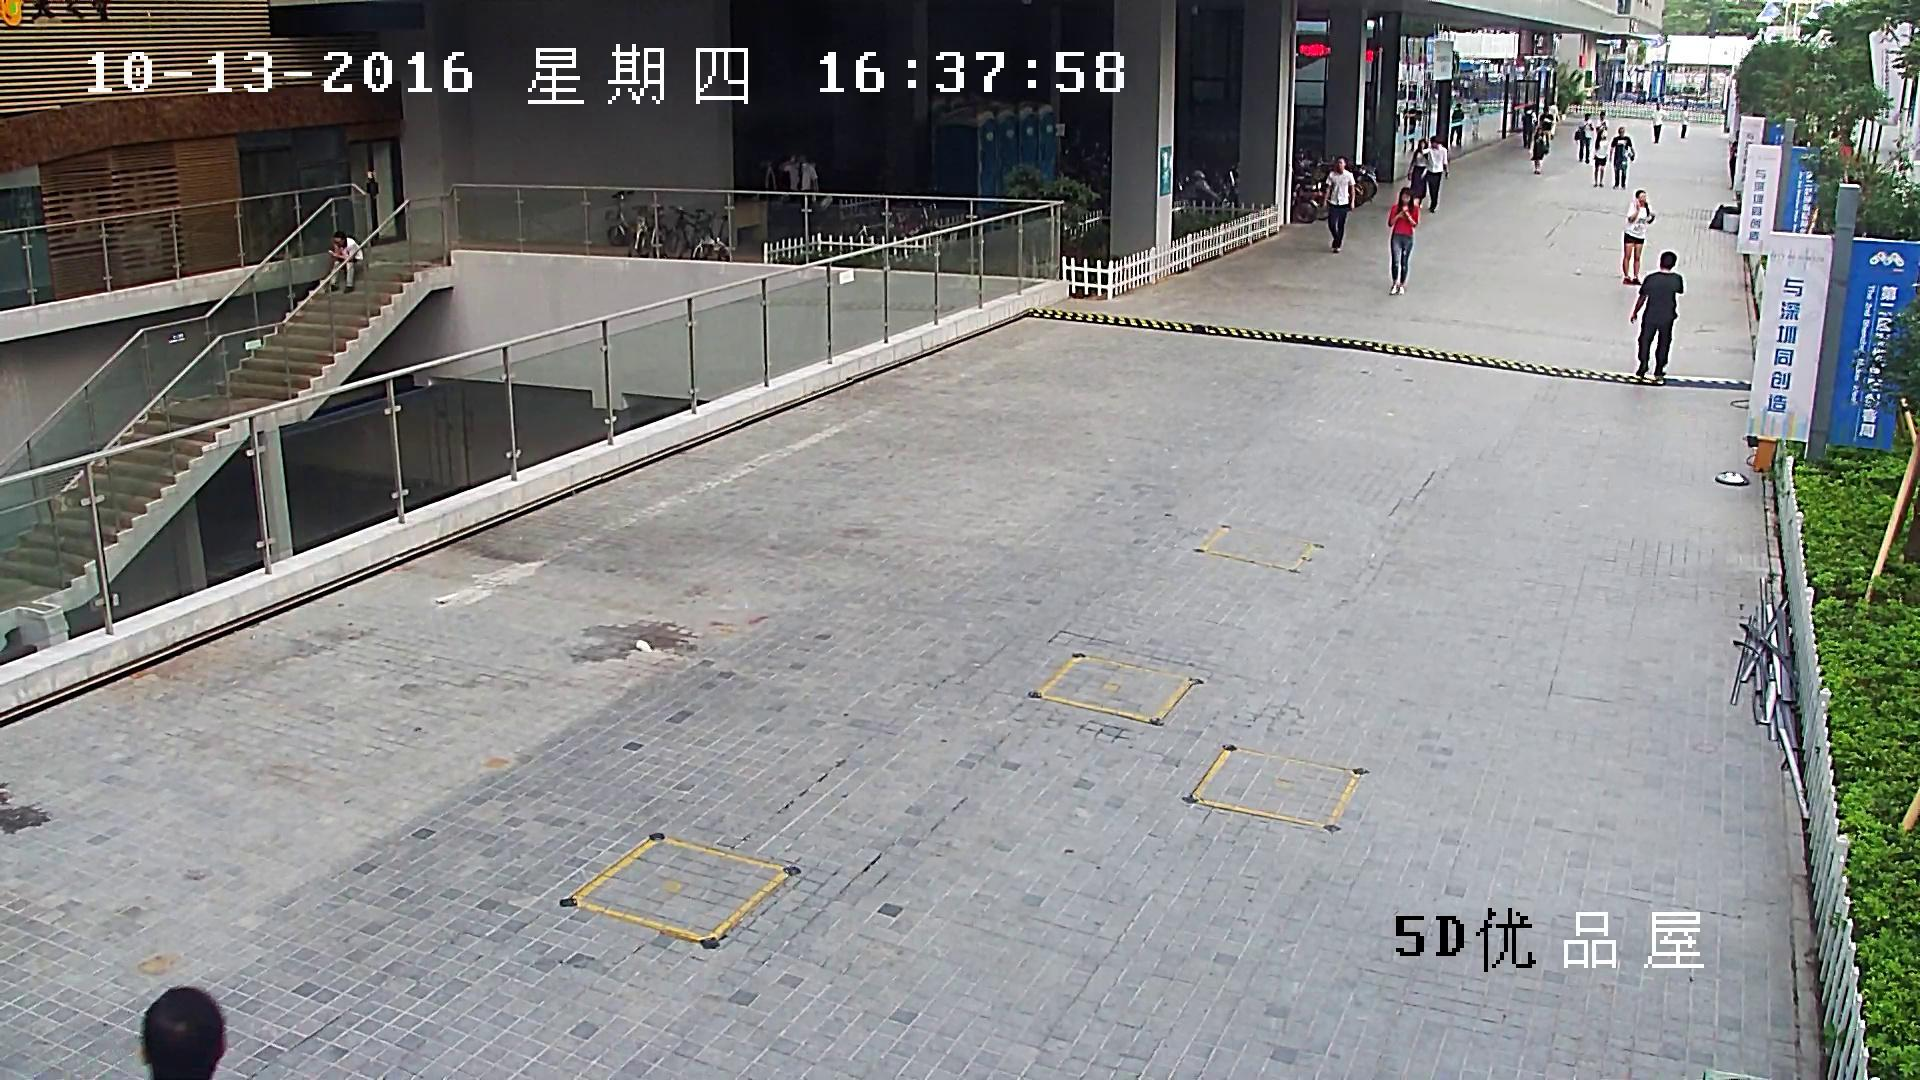person: (1630, 251, 1684, 376), (1387, 187, 1419, 295), (777, 153, 818, 232), (1322, 156, 1356, 253), (1623, 188, 1654, 284), (324, 231, 364, 293), (1420, 135, 1449, 212), (1609, 126, 1634, 189), (1407, 139, 1428, 209), (1573, 113, 1593, 164), (1530, 126, 1549, 174), (1593, 129, 1608, 187), (1449, 102, 1464, 148), (1522, 104, 1536, 149), (1403, 103, 1416, 152), (1729, 130, 1739, 189), (1539, 107, 1553, 147), (1652, 105, 1665, 143), (1596, 111, 1608, 138), (1470, 96, 1478, 137), (1680, 105, 1689, 138)
